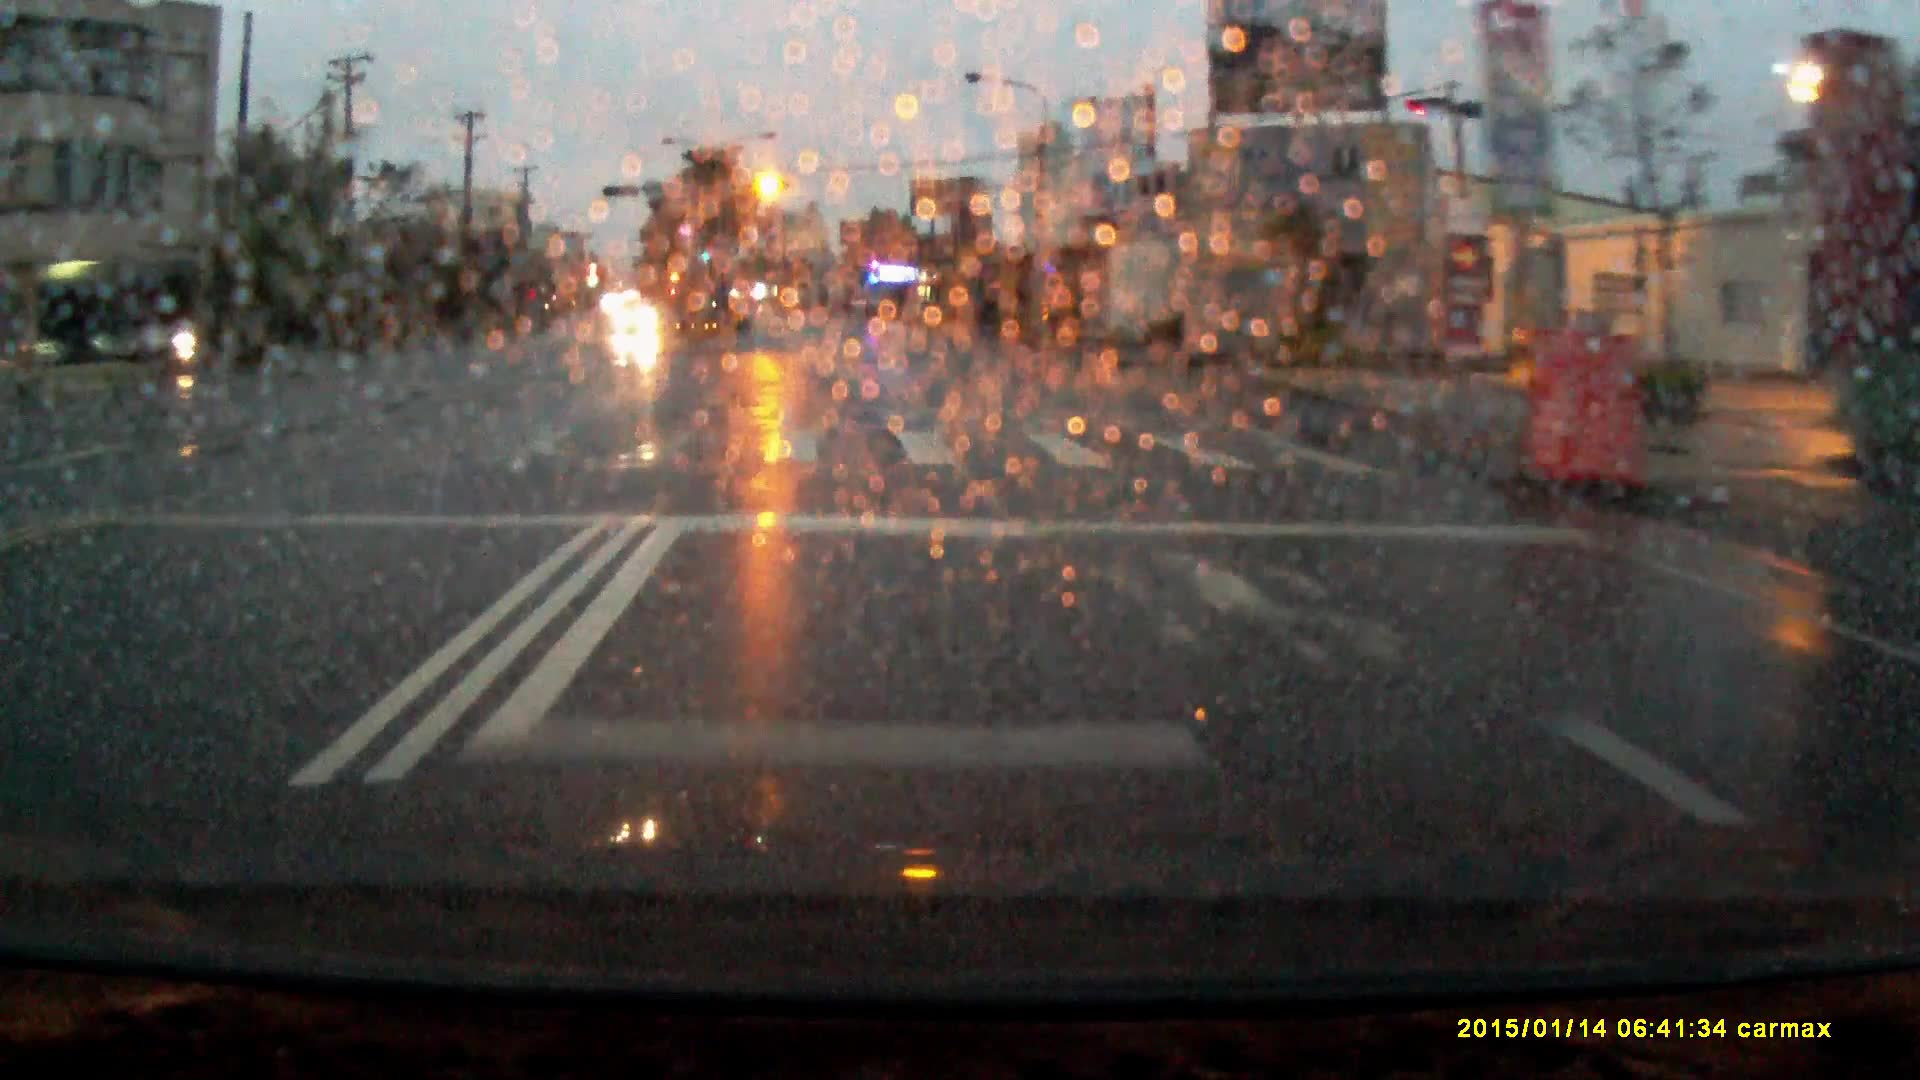rider: (167, 295, 210, 375)
vehicle: (614, 297, 663, 336)
